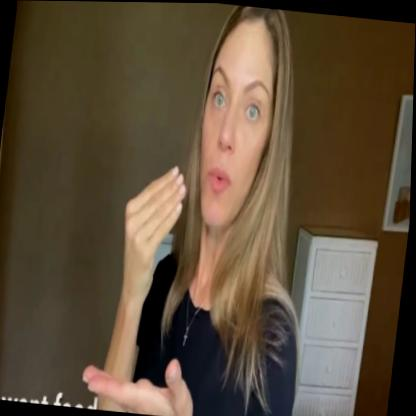Food: (111, 1, 304, 306)
